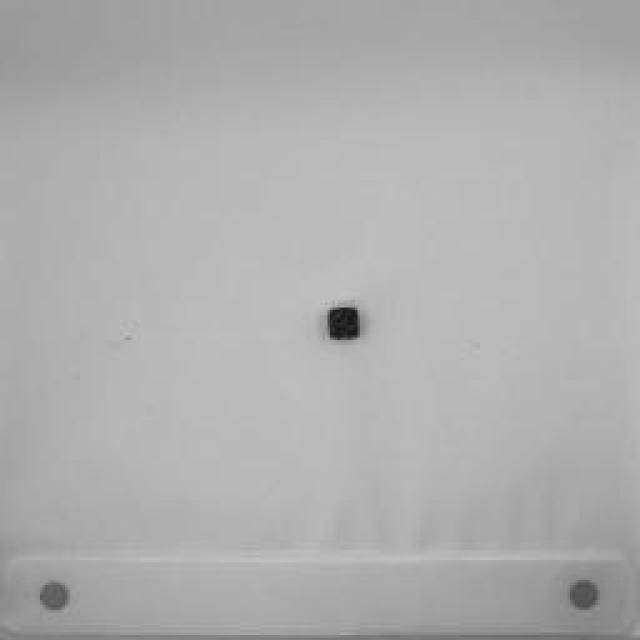dice_3: (320, 304, 365, 344)
